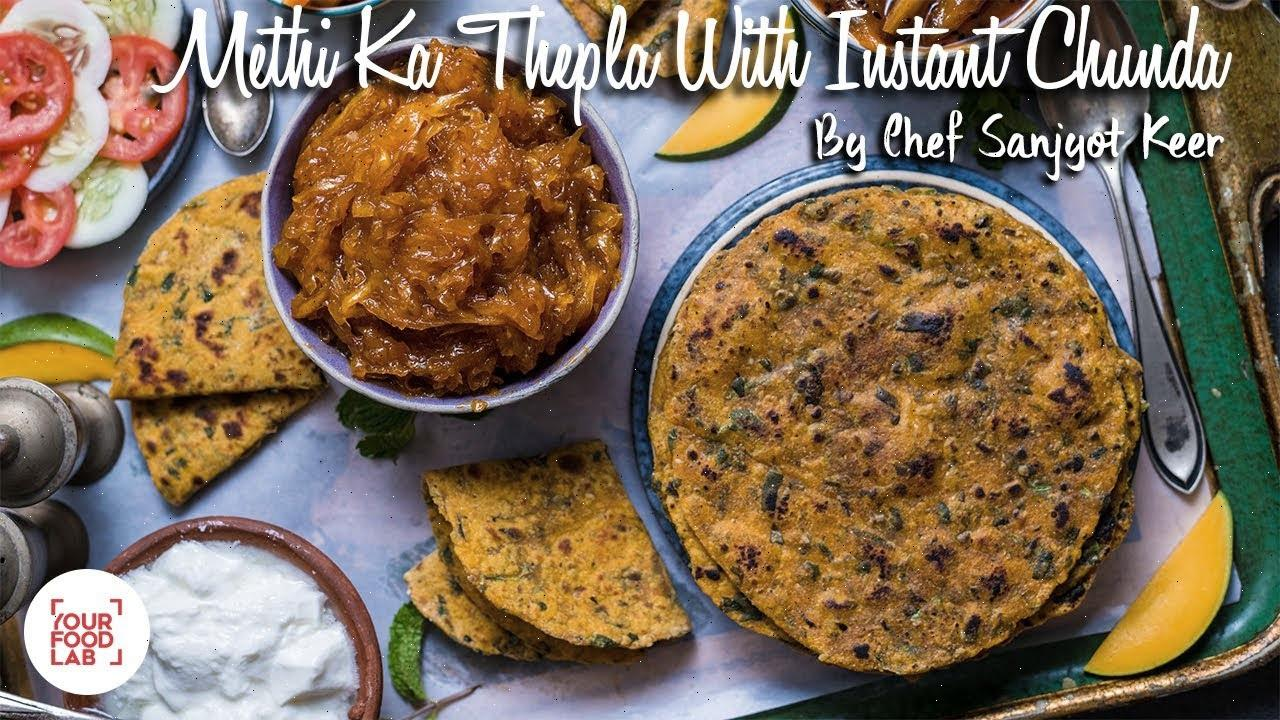salad: (0, 0, 178, 250)
thepla: (661, 223, 1151, 612), (401, 455, 732, 685), (151, 195, 278, 458)
yogurt: (111, 565, 361, 720)
